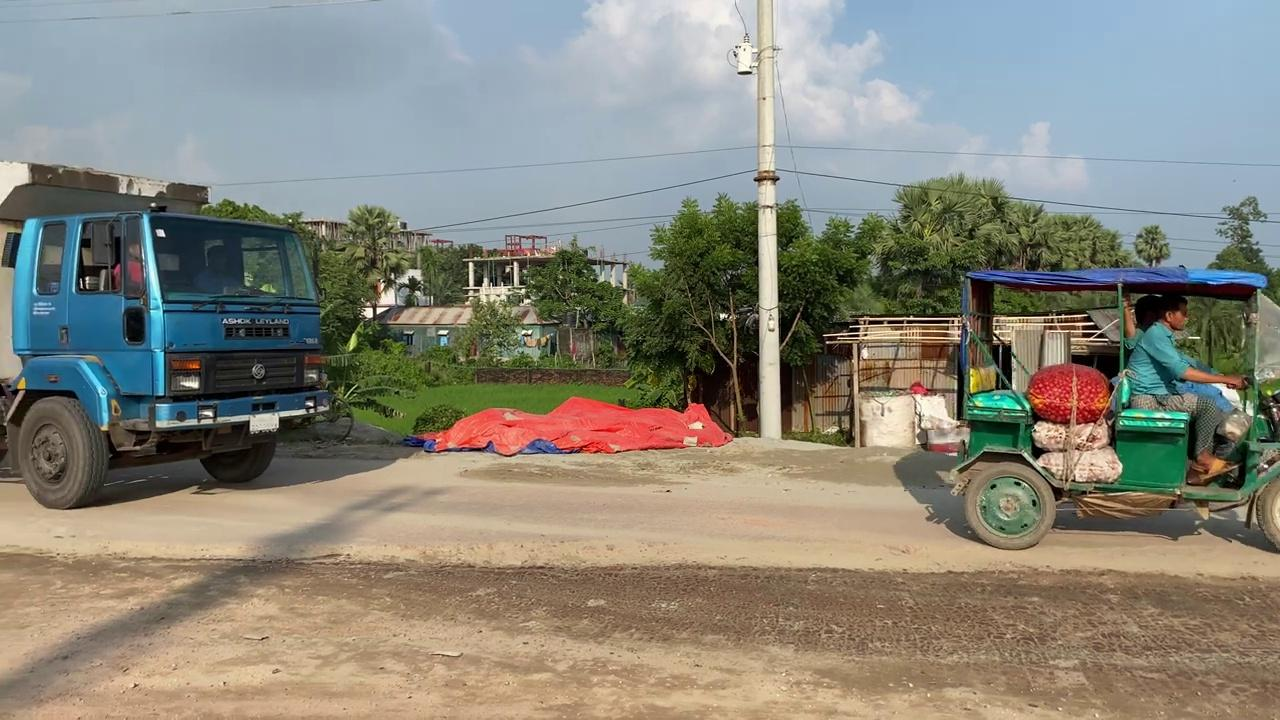Garbage: (405, 394, 733, 455)
Muddy road: (1, 437, 1277, 717)
Pole: (753, 0, 782, 439)
Traffic-sign: (616, 190, 860, 435), (522, 234, 625, 364), (1133, 223, 1171, 267)
Tree: (0, 159, 334, 510), (947, 263, 1279, 552)
